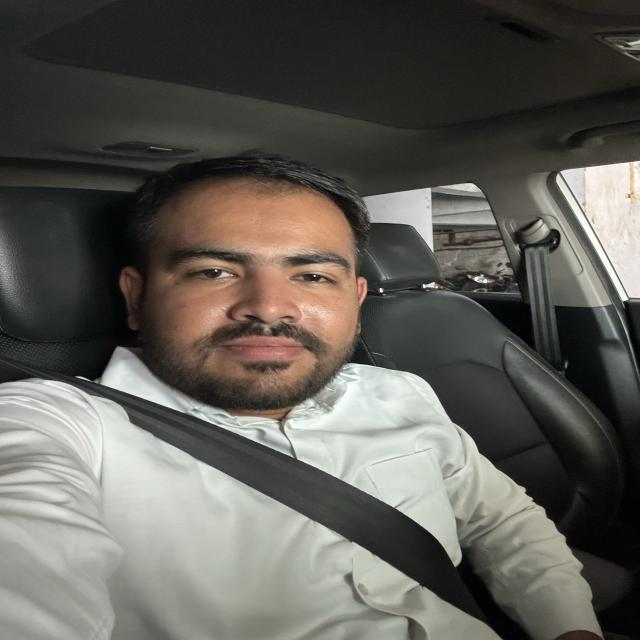seatbelt: (0, 341, 541, 640)
